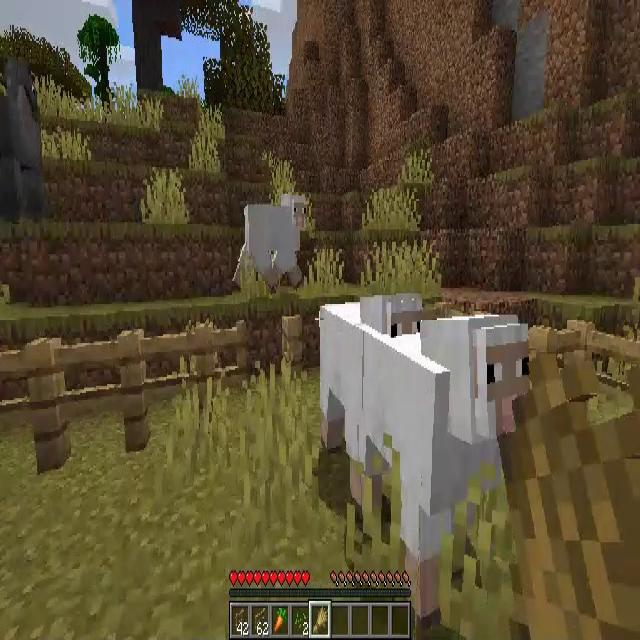sheep: (408, 314, 532, 595), (320, 293, 421, 501), (242, 197, 304, 284)
